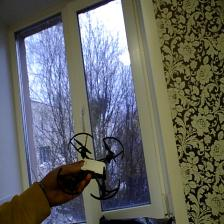drone: (57, 132, 126, 202)
